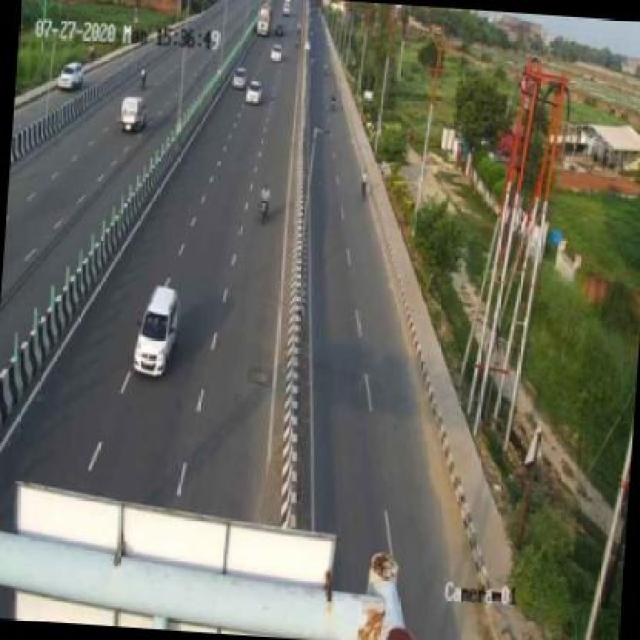car: (132, 283, 182, 382), (119, 96, 146, 136), (56, 57, 84, 94), (246, 77, 265, 111), (230, 63, 252, 89), (268, 43, 284, 66)
